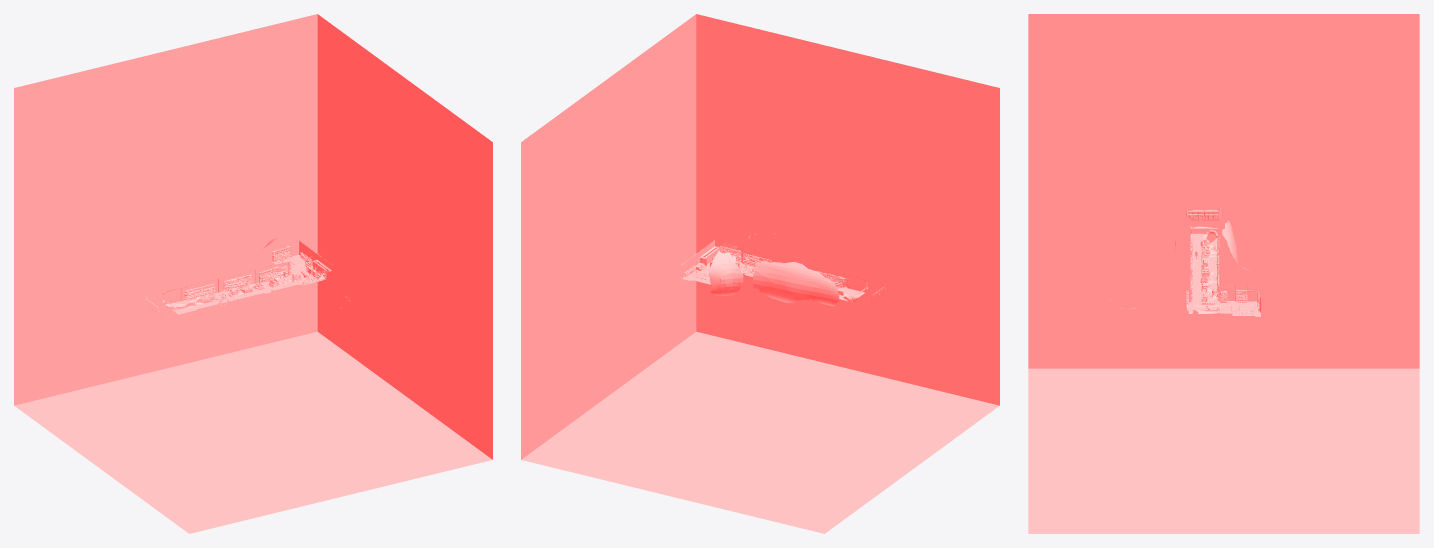
3 views of the same model, side by side, from view 1: azimuth 30°, elevation 25°; view 2: azimuth 150°, elevation 25°; view 3: azimuth 270°, elevation 25° (orthographic). The views are drawn at different scales.
Visible parts, largest first — view 1: LayamaNode; view 2: LayamaNode; view 3: LayamaNode.
Boxes of the visible parts, x1,y1,x2,y2 form: LayamaNode: (14,14,492,533); LayamaNode: (521,14,999,533); LayamaNode: (1028,14,1419,533).
Size of the model in its own units: 6938 by 6938 by 6938.
